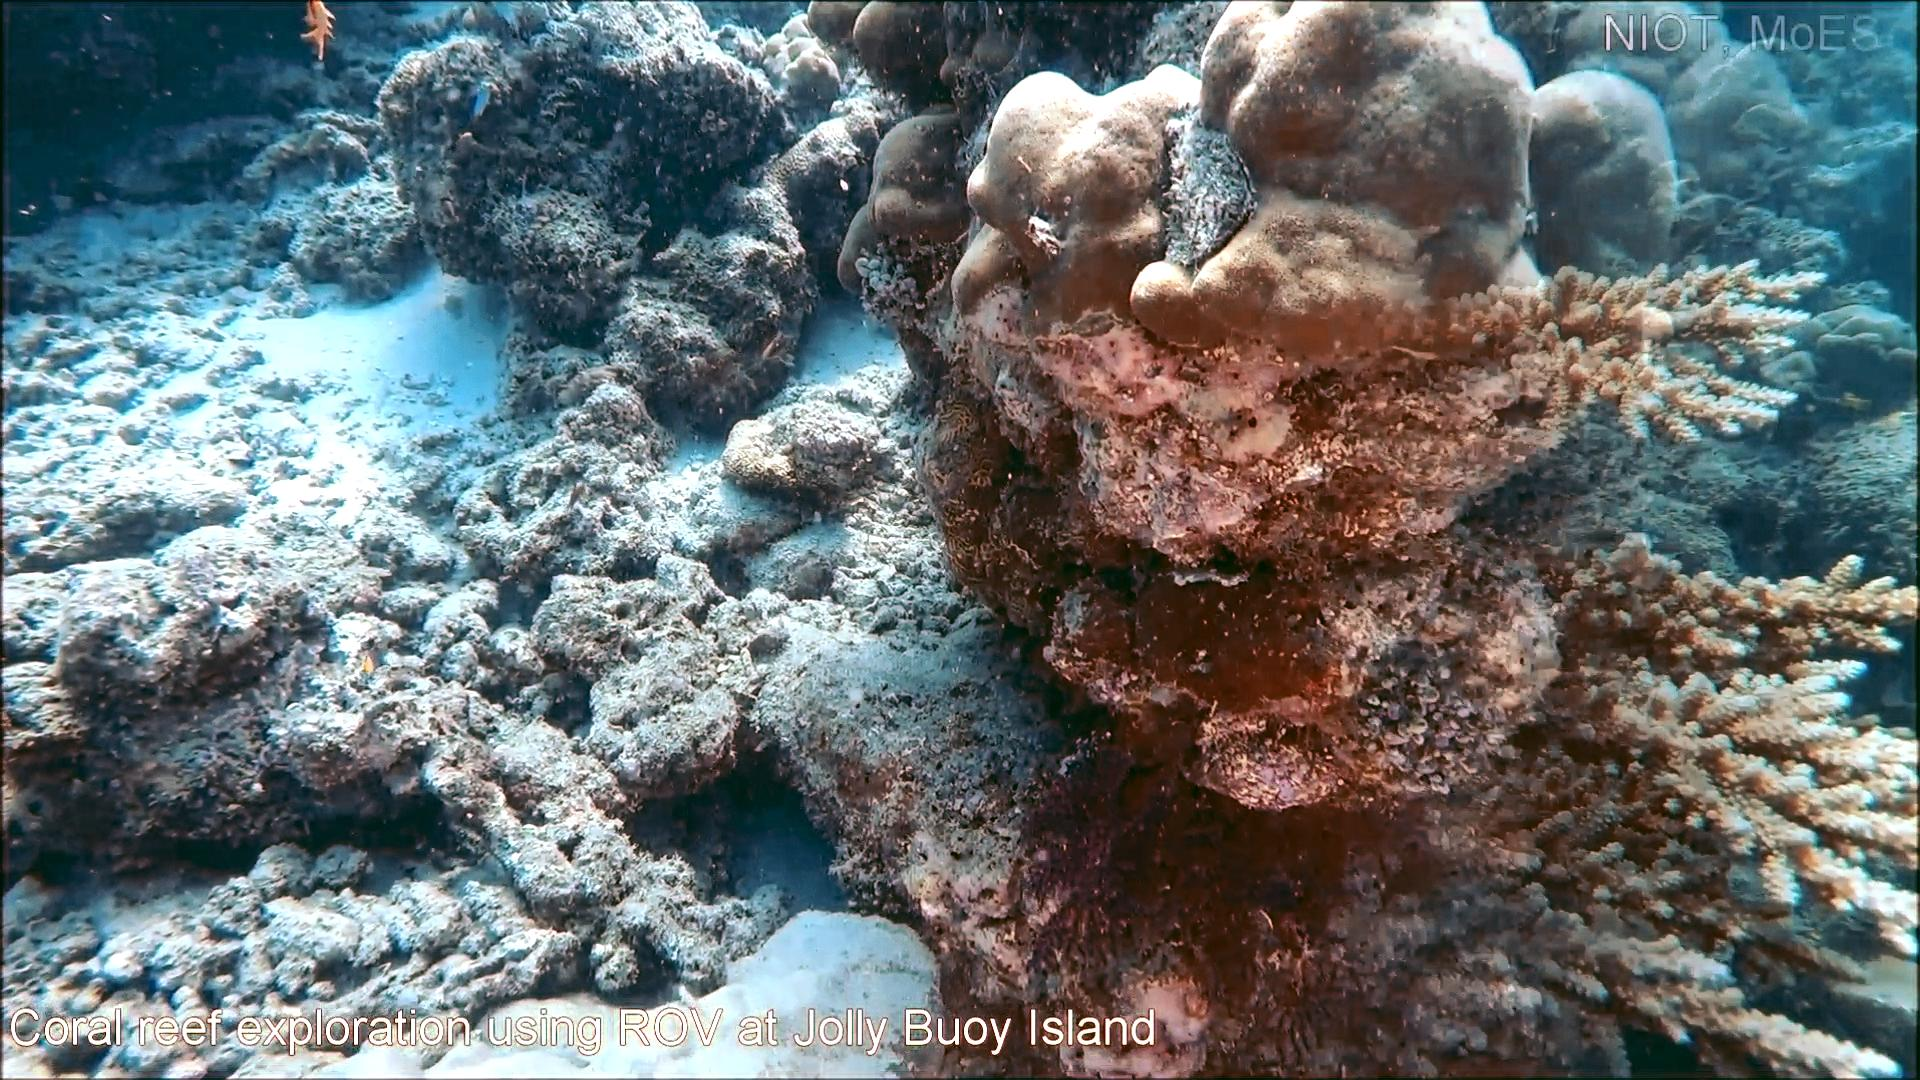Gorgonian-Purple Plexaura: (1006, 699, 1447, 1075)
Porites-Porites pukoensis: (942, 0, 1545, 351), (224, 897, 953, 1080)
